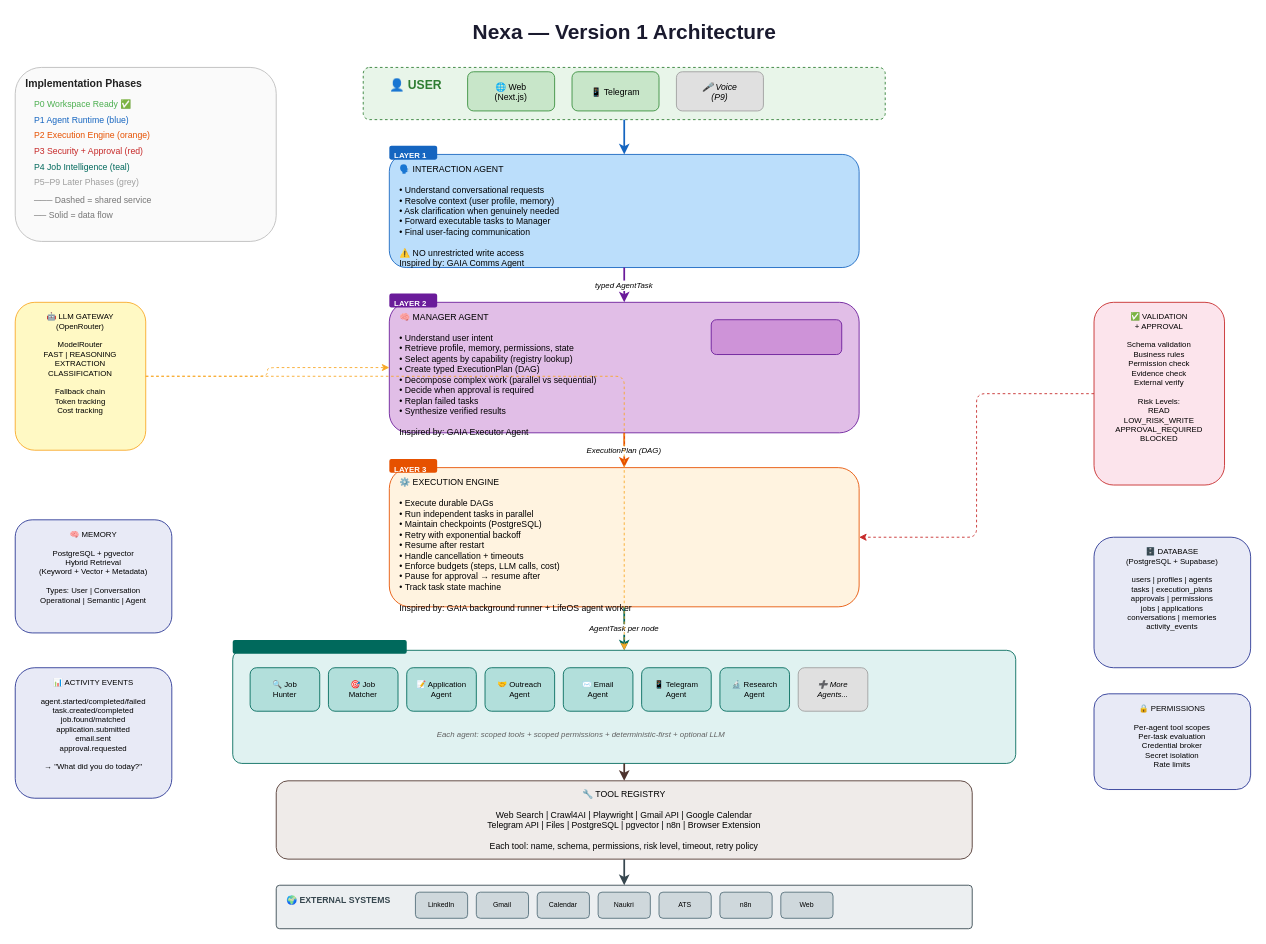
This 1266x944 diagram has some shape labels left out. Here are the shapes that lost their labels. From the top down, the centre of each, then its label:
(776,337): 📋 Plan Compiler (Intent → DAG)
(319,646): LAYER 4 — SPECIALIST AGENTS
